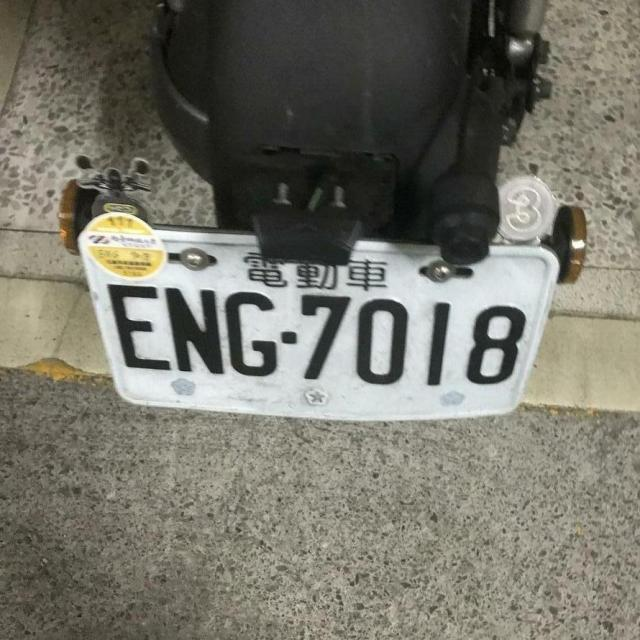W: (78, 201, 559, 450)
